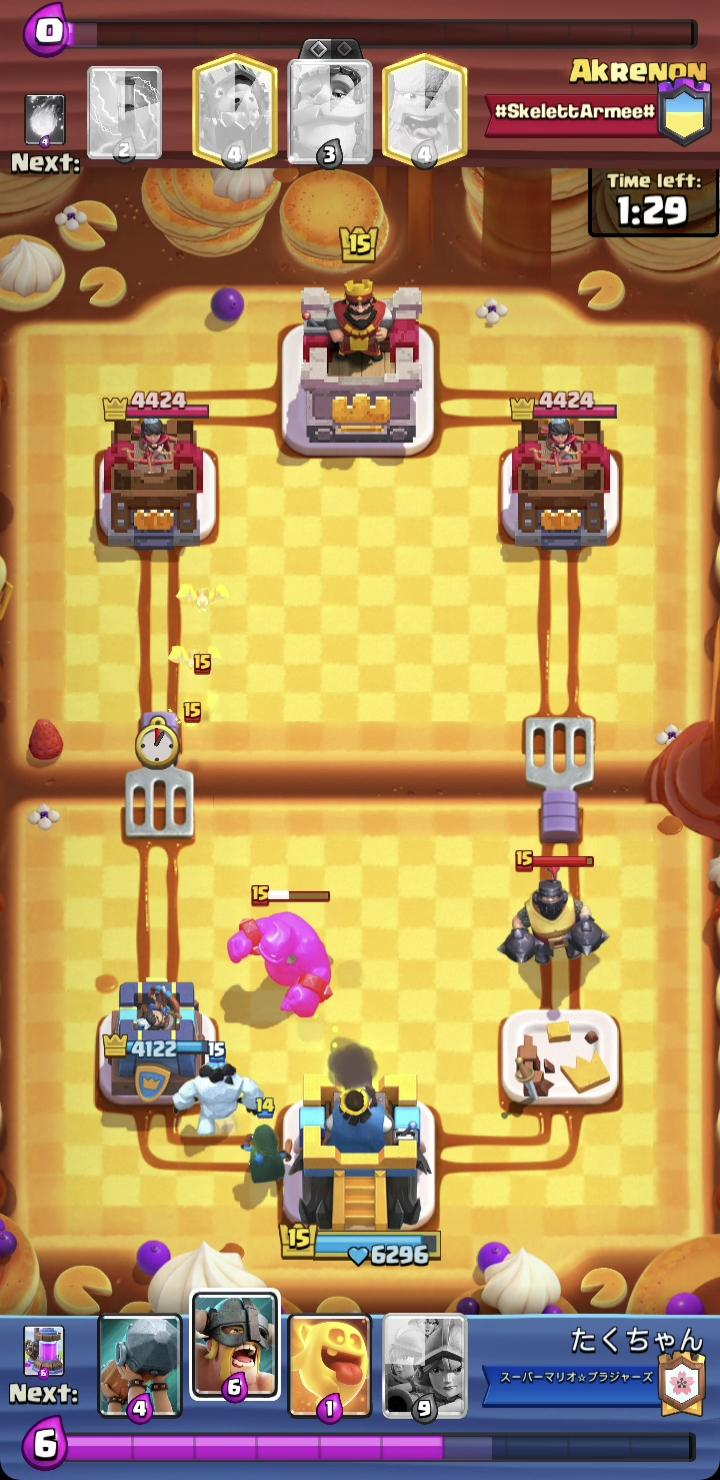ally_bandit: (239, 1095, 294, 1183)
ally_ice_golem: (171, 1040, 268, 1144)
enemy_elixirgolem: (225, 884, 335, 1021)
enemy_mega_knight: (497, 848, 608, 968)
